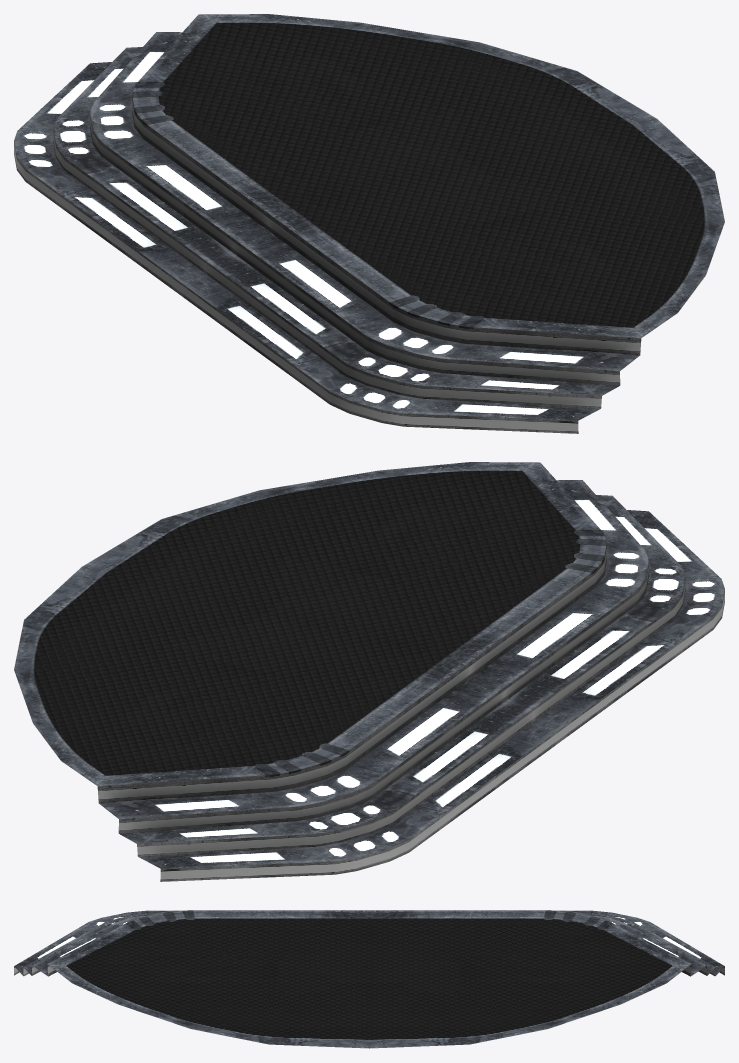
3 renders of one model, top to bottom at view 1: azimuth 30°, elevation 25°; view 2: azimuth 150°, elevation 25°; view 3: azimuth 270°, elevation 25°, orthographic. The views are drawn at different scales.
Parts seen in each view (by area): view 1: PanelStair; view 2: PanelStair; view 3: PanelStair.
Boxes of the visible parts, box(x1,y1,x2,y2) form: PanelStair: box(14, 14, 724, 433); PanelStair: box(14, 462, 724, 881); PanelStair: box(14, 910, 724, 1048).
Bounding box in the file's own units: 433 × 50.03 × 765.
Materials: 1 (1 with a texture image).
